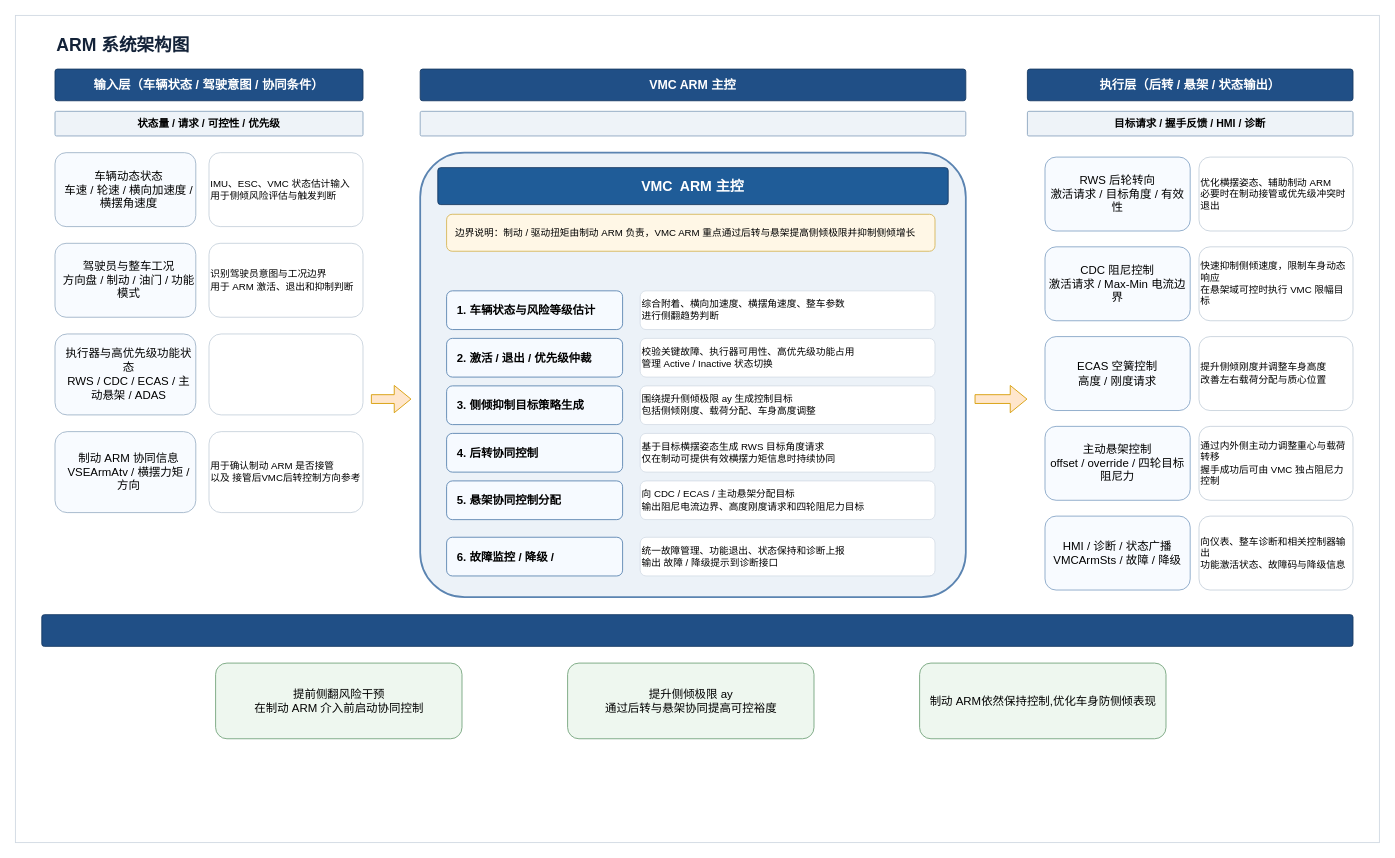
Image size: 1395x858. Some labels were removed from this diagram. Each missing label, with the centre of its shape:
"握手状态、执行器能力 以及坦克掉头 / 漂移等高优先级占用状态" belongs at (x=285, y=374).
"整车效果" belongs at (x=697, y=630).
"风险评估 / 状态机 / 协同控制 / 降级" belongs at (x=692, y=123).
